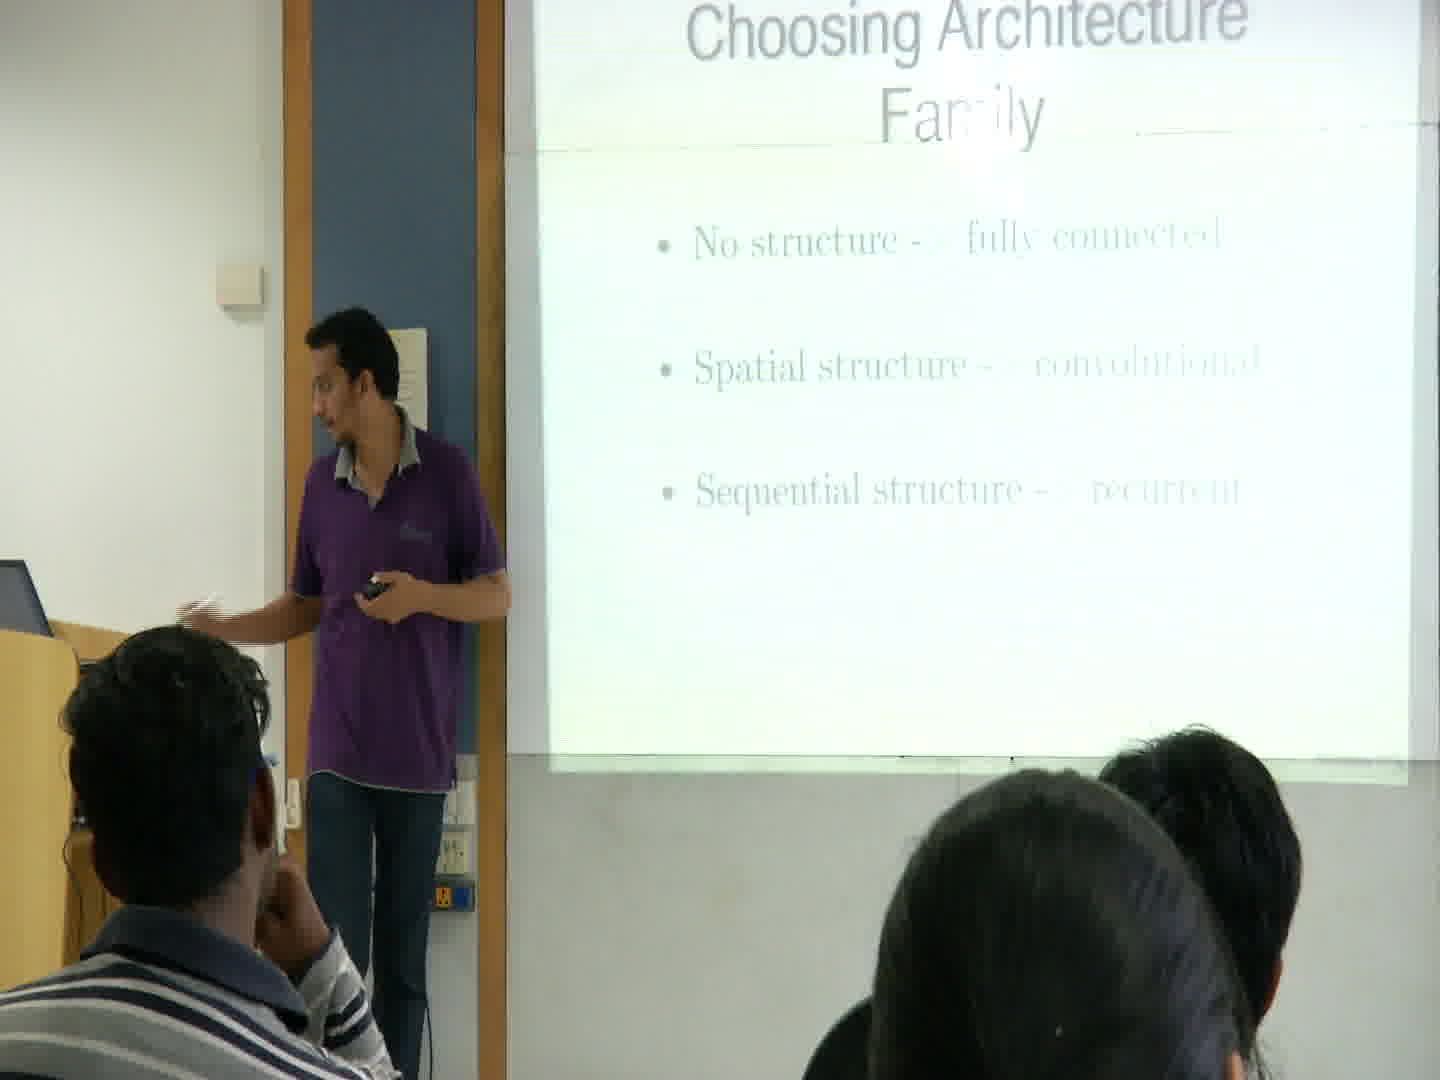slide: (536, 1, 1413, 782)
